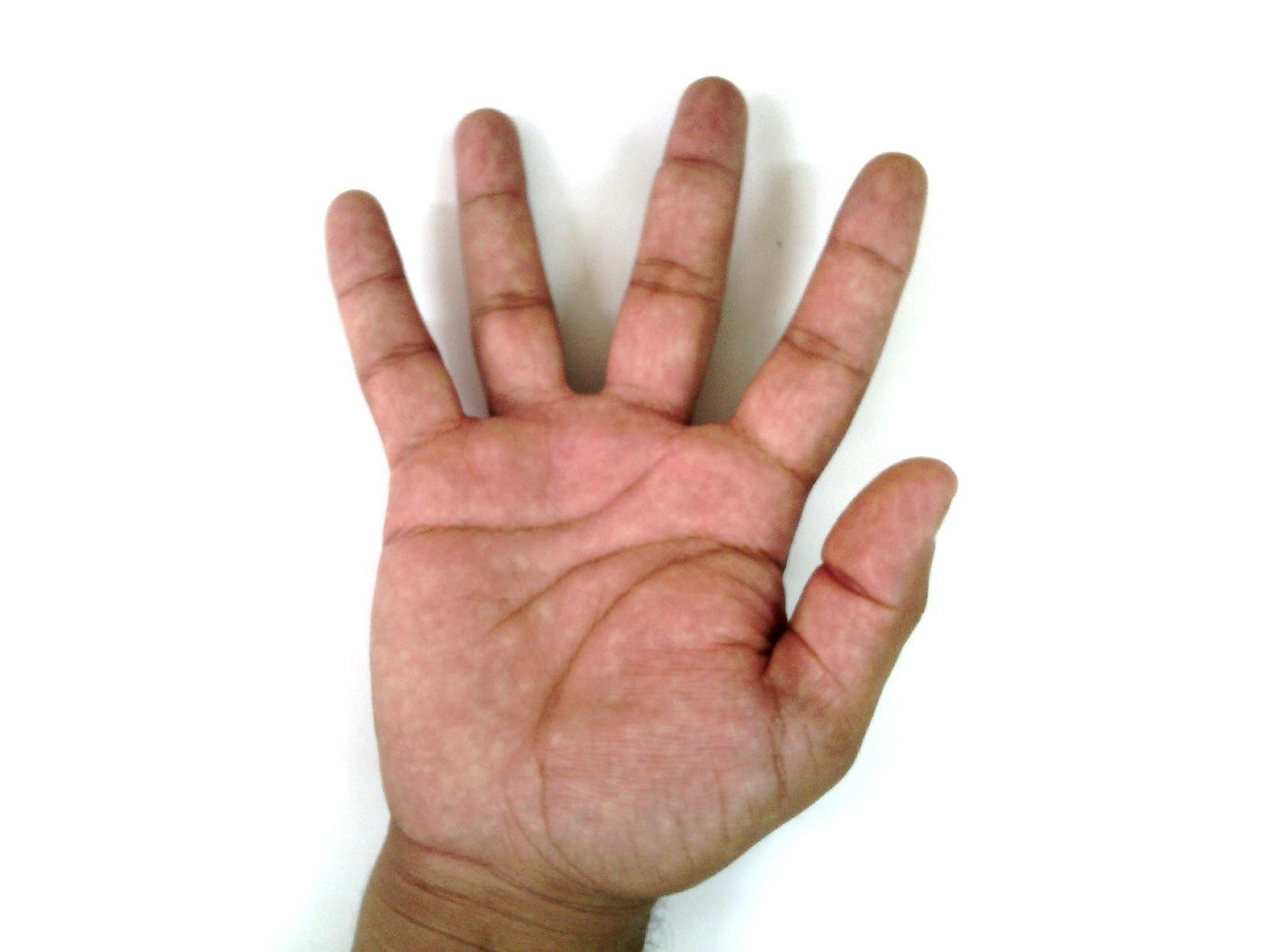open_palm: (320, 75, 960, 911)
